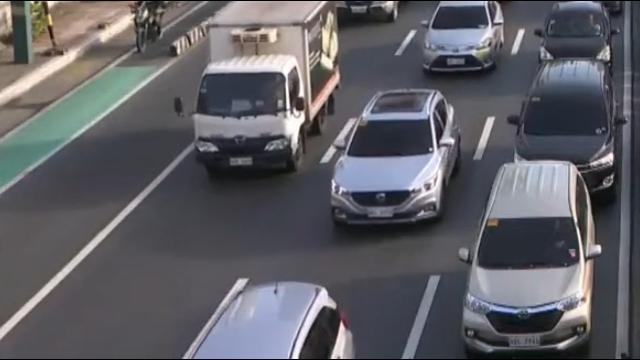car: (454, 162, 602, 353), (332, 89, 462, 229), (508, 62, 622, 203), (188, 274, 359, 360), (532, 0, 615, 76), (422, 0, 508, 72)
motorcycle: (127, 0, 165, 55)
truck: (189, 3, 342, 178)
